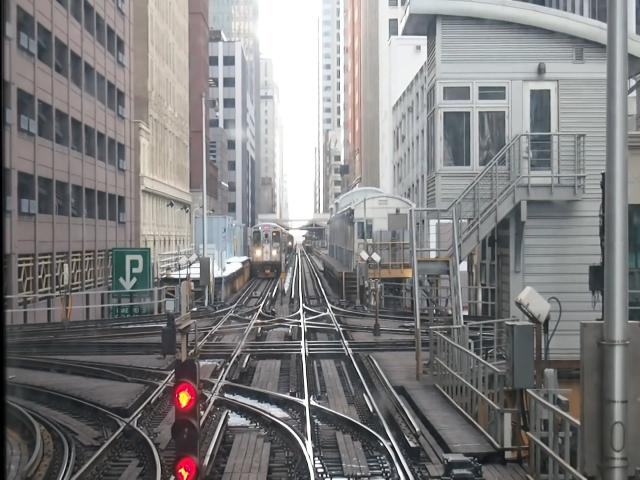signal light: (173, 355, 203, 480)
